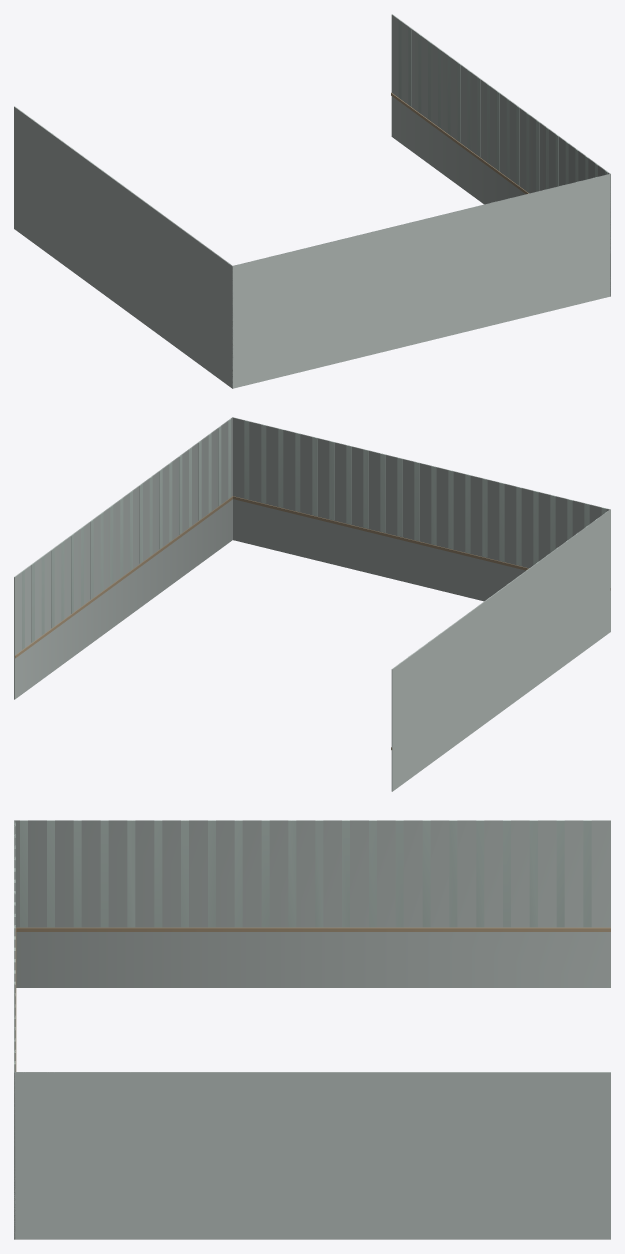
File: home_wallpaper_s1__mint.glb
3 renders of one model, top to bottom at view 1: azimuth 30°, elevation 25°; view 2: azimuth 150°, elevation 25°; view 3: azimuth 270°, elevation 25°, orthographic. The views are drawn at different scales.
Size of the model in its own units: 8.9 by 2.75 by 8.9.
